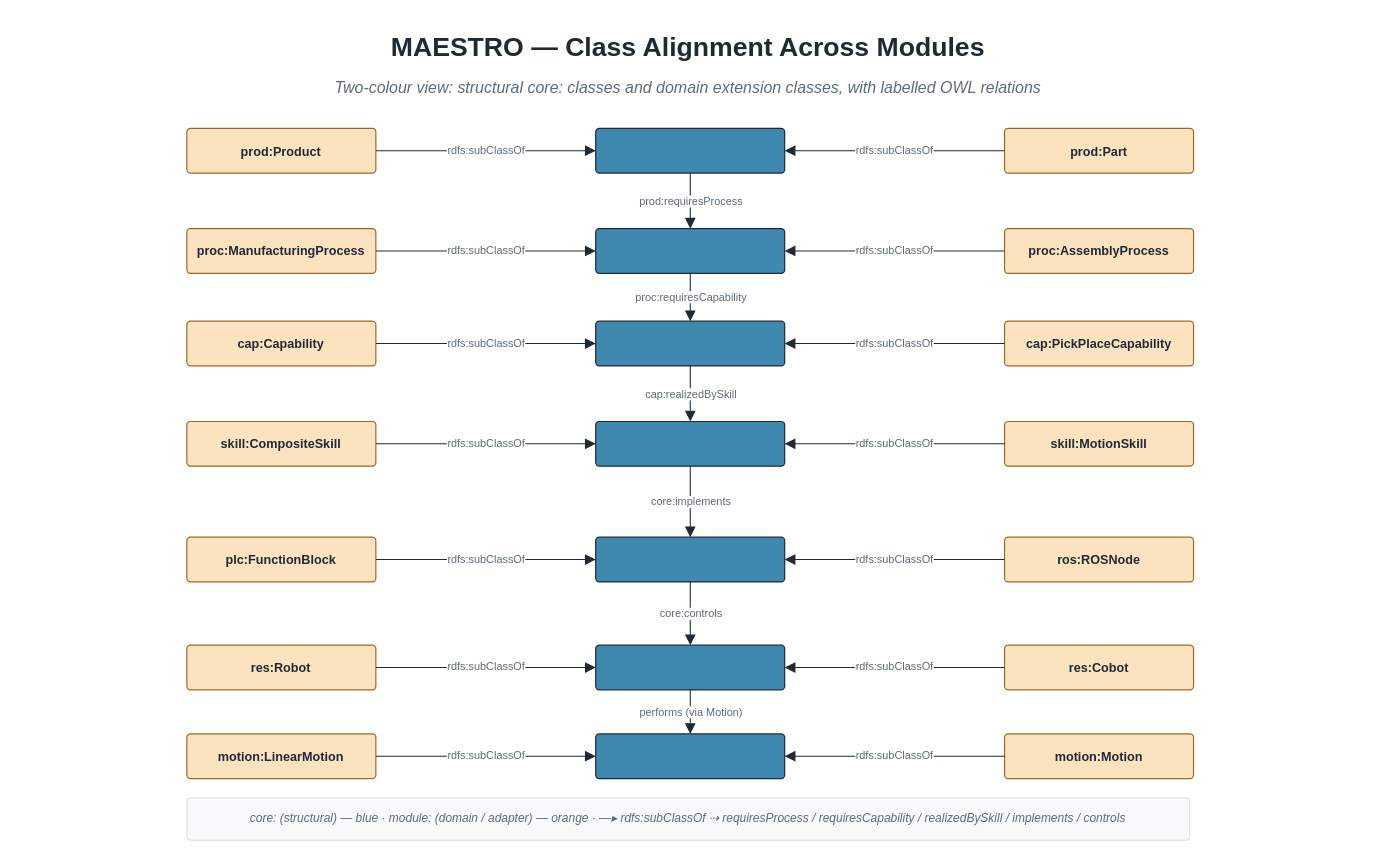
Some shapes in this 1375 by 863 pixel diagram are drawn without their labels. The shapes that lost their labels are listed below. From the top down, each one's centre as x and y in pixels, then its label:
(690,150): core:Product
(690,250): core:Process
(690,343): core:Capability
(690,443): core:Skill
(690,559): core:ControlComponent
(690,667): core:Resource
(690,755): core:LogicalEntity
